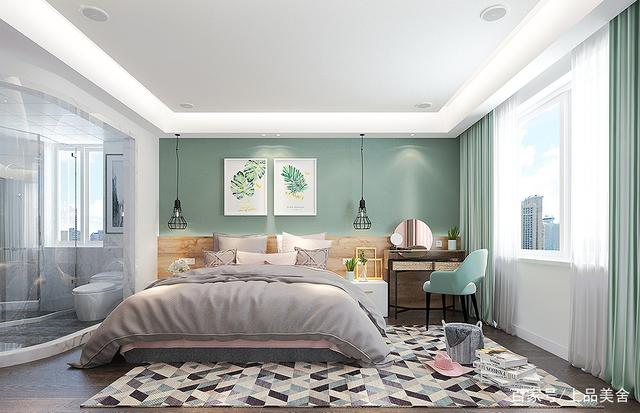床: (109, 269, 374, 365)
枕头: (210, 233, 330, 273)
灯: (352, 134, 371, 232), (169, 134, 184, 232), (76, 2, 111, 27), (477, 5, 506, 25), (177, 99, 196, 113), (410, 101, 433, 111)
